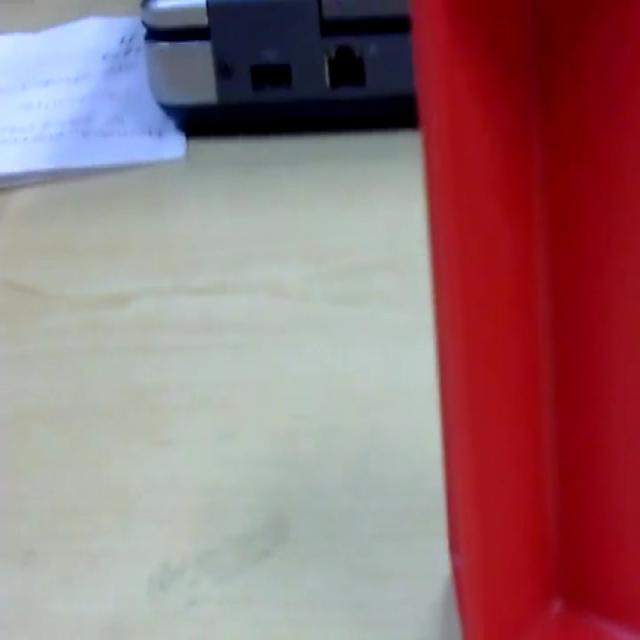red_block: (409, 0, 638, 636)
